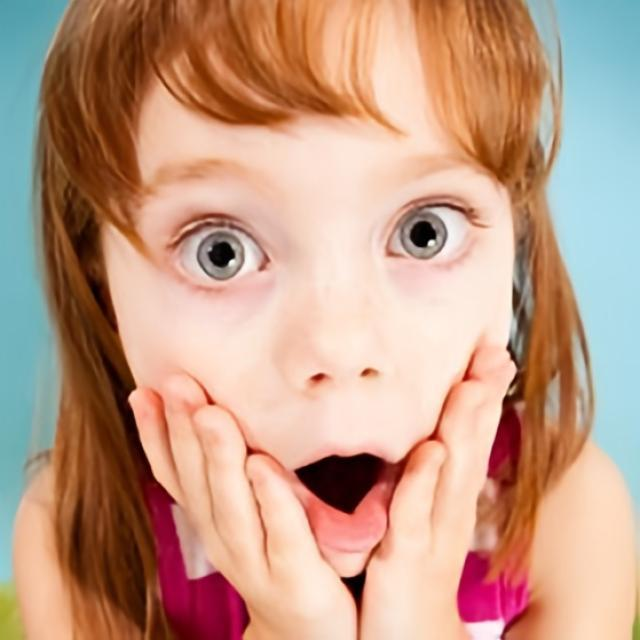surprise: (97, 0, 517, 580)
